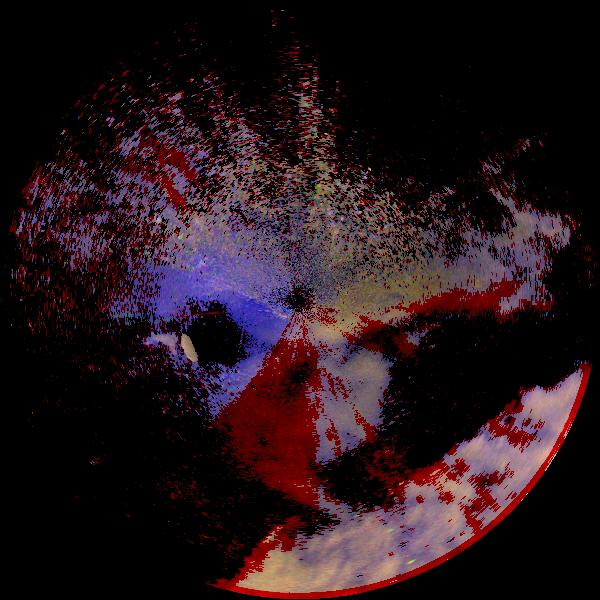roost: (118, 317, 217, 416)
